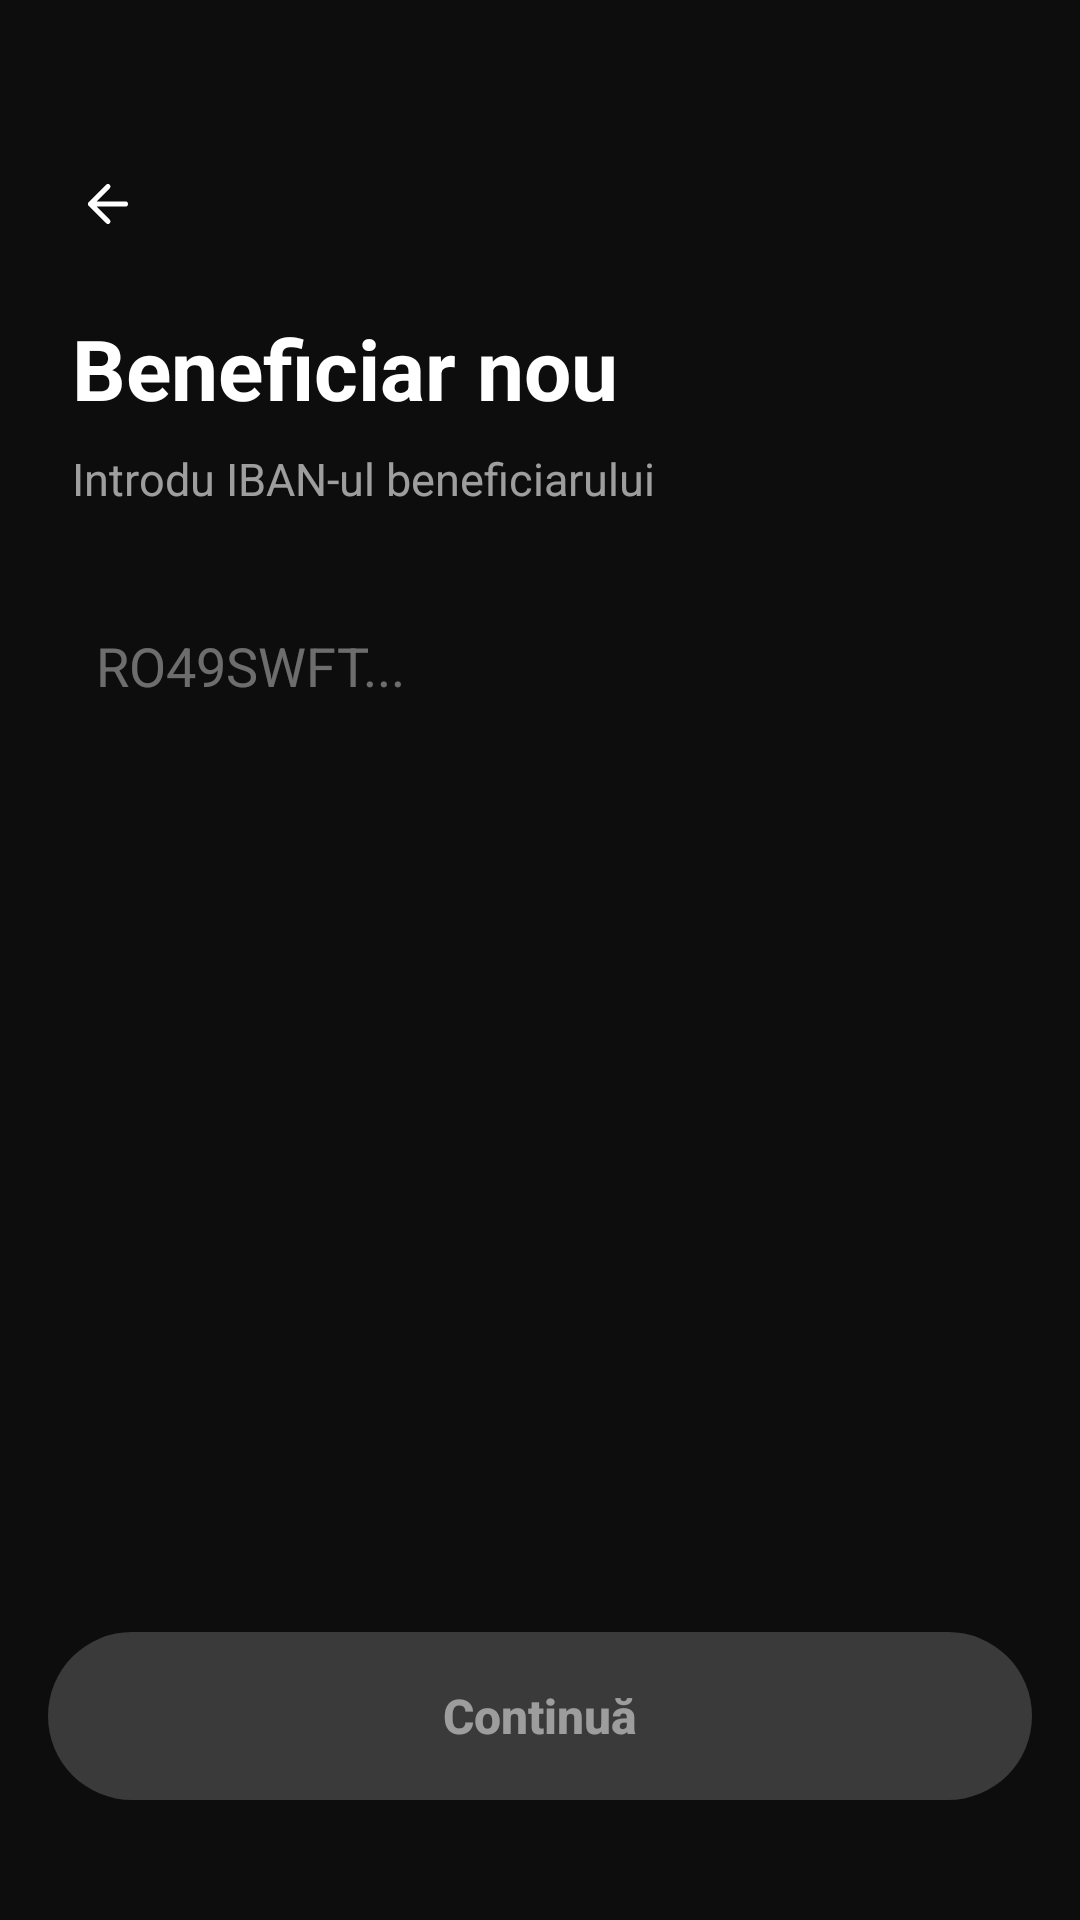

Screen size 1080*1920. Icon name, then its box in pixels as (left=x1, top=y1, right=x2, bottom=y2):
arrow back: (left=88, top=184, right=128, bottom=224)
